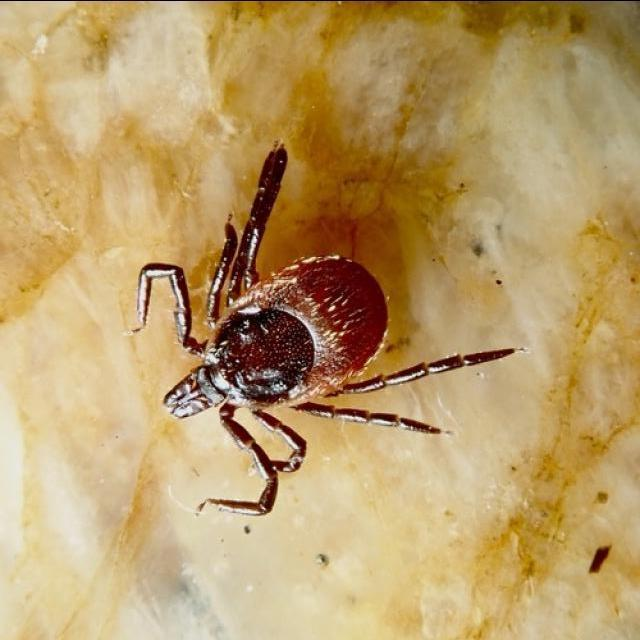Ixodes Ricinus-F: (132, 142, 513, 516)
